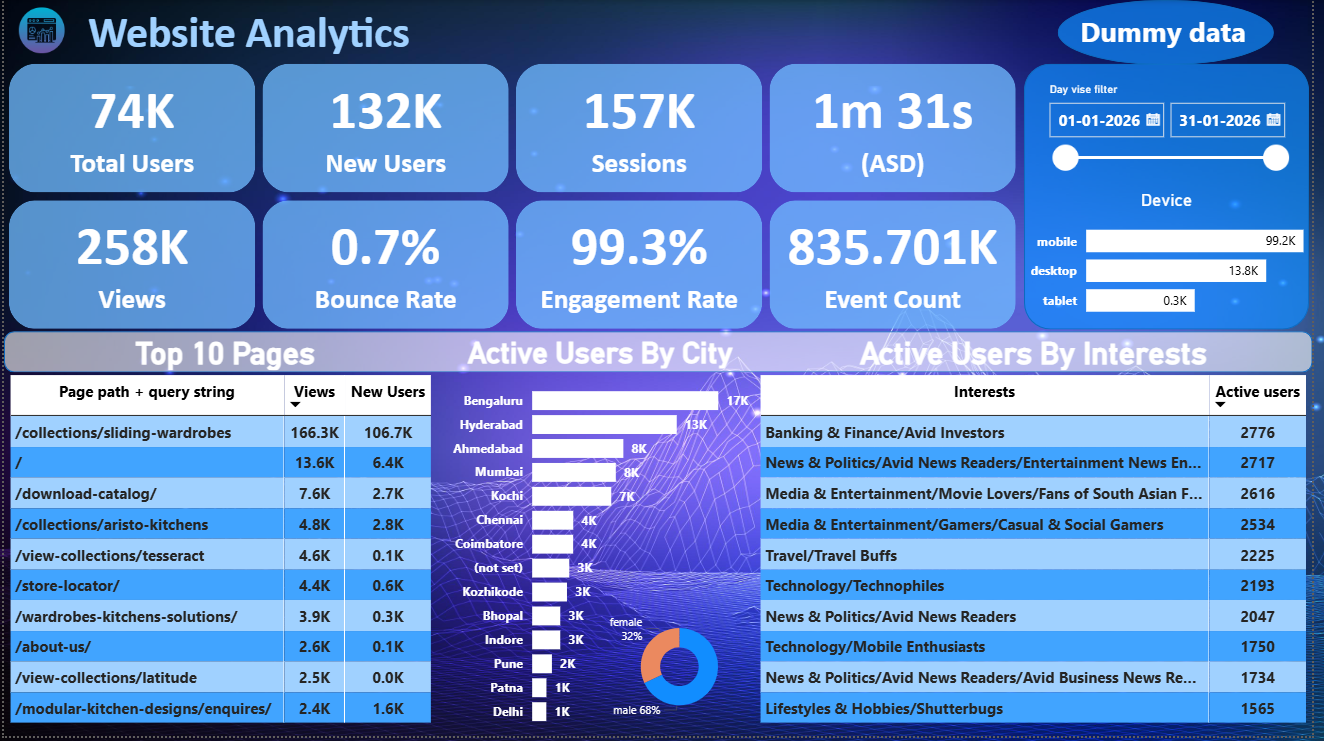

What the dashboard file says about the page in this screenshot:
{"tool":"powerbi","page":{"name":"Overview January","canvas":[1280,720],"ordinal":0},"visuals":[{"type":"textbox","box":[0,0,413.3,62.4],"z":0,"group":"g1"},{"type":"shape","box":[1030.8,0,211.6,63.6],"z":0},{"type":"image","box":[4.7,2.2,63.2,54.6],"z":1000,"group":"g1"},{"type":"shape","box":[0,324.1,1280,40.4],"z":1000},{"type":"shape","box":[997.8,62.4,278.8,260],"z":2000},{"type":"cardVisual","fields":{"Data":["Sum(total_Sheet.Total users)","Sum(total_Sheet.New users)","Sum(total_Sheet.Sessions)","Min(total_Sheet.Average session duration)","Sum(total_Sheet.Views)","Avg(total_Sheet.Bounce rate)","Avg(total_Sheet.Engagement rate)","Sum(total_Sheet.Event count)"]},"box":[0,57.5,997.8,270.2],"z":3000},{"type":"group","id":"g1","title":"Group 1","box":[0,0,413.3,62.4],"z":4000},{"type":"barChart","title":"Active Users By City","fields":{"Category":["Website-Data_Sheet.City"],"Y":["Sum(Website-Data_Sheet.Active users)"]},"box":[432.9,327.7,300.8,392.5],"z":5000},{"type":"tableEx","title":"Top 10 Pages","fields":{"Values":["Website-Data_Sheet.Page path + query string","Sum(Website-Data_Sheet.Views)","Sum(Website-Data_Sheet.New users)"]},"box":[0,327.7,432.9,392.5],"z":6000},{"type":"barChart","title":"Device","fields":{"Category":["Website-Data_Sheet.Device category"],"Y":["Sum(Website-Data_Sheet.Total users)"]},"box":[997.8,185.9,278.8,137],"z":7000},{"type":"donutChart","title":"Active Users By City","fields":{"Category":["Gender_Sheet.Gender"],"Y":["Sum(Gender_Sheet.Active users)"]},"box":[583.3,595.5,155.3,113.7],"z":8000},{"type":"tableEx","title":"Active Users By Interests","fields":{"Values":["Interests_Sheet.Interests","Sum(Interests_Sheet.Active users)"]},"box":[733.7,327.7,546.6,392.5],"z":9000},{"type":"slicer","fields":{"Values":["Website-Data_Sheet.Date"]},"box":[1010.1,75.8,255.6,110.1],"z":10000},{"type":"textbox","box":[1048,7.3,181,55],"z":10001}]}

Visuals, with their boxes in screenshot pixels (x1, y1, x2, y2), scaled from the page's 1280x720 canvas onto the 1324x741 screenshot:
textbox: 0/0/428/64
shape: 1066/0/1285/65
image: 5/2/70/58
shape: 0/334/1323/375
shape: 1032/64/1320/332
cardVisual - Sum(total_Sheet.Total users) x Sum(total_Sheet.New users): 0/59/1032/337
"Group 1" group: 0/0/428/64
"Active Users By City" barChart: 448/337/759/740
"Top 10 Pages" tableEx: 0/337/448/740
"Device" barChart: 1032/191/1320/332
"Active Users By City" donutChart: 603/613/764/730
"Active Users By Interests" tableEx: 759/337/1323/740
slicer - Website-Data_Sheet.Date: 1045/78/1309/191
textbox: 1084/8/1271/64
